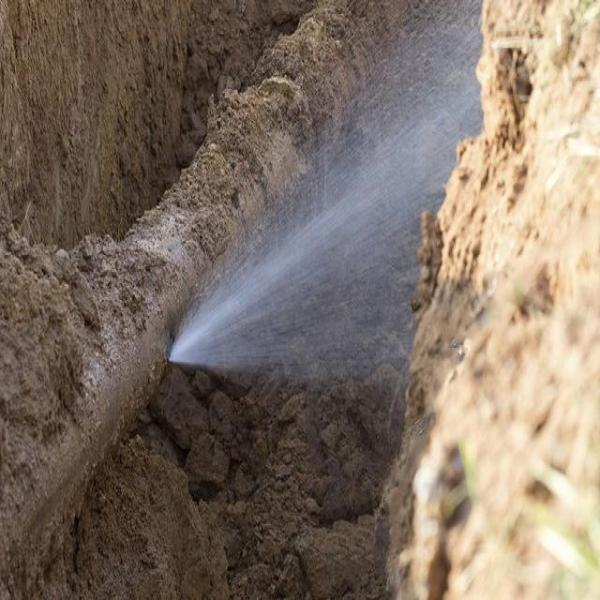pipe burst: (158, 13, 491, 375)
